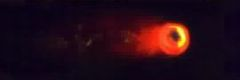keyhole: (168, 28, 183, 44)
